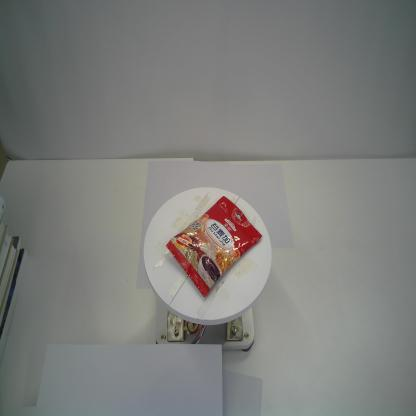Instant Drink: (165, 193, 263, 299)
